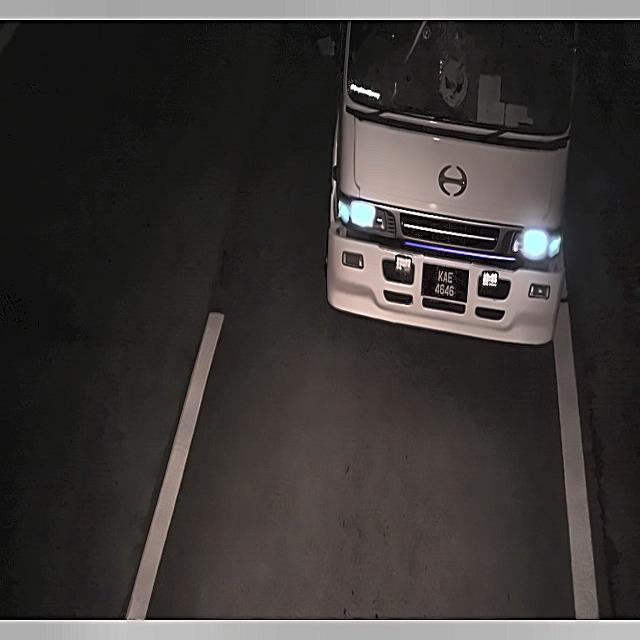car: (418, 258, 471, 314)
